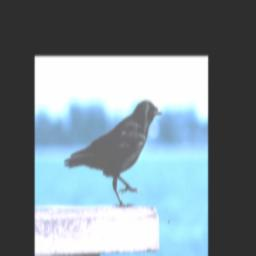Crow: (62, 96, 164, 209)
